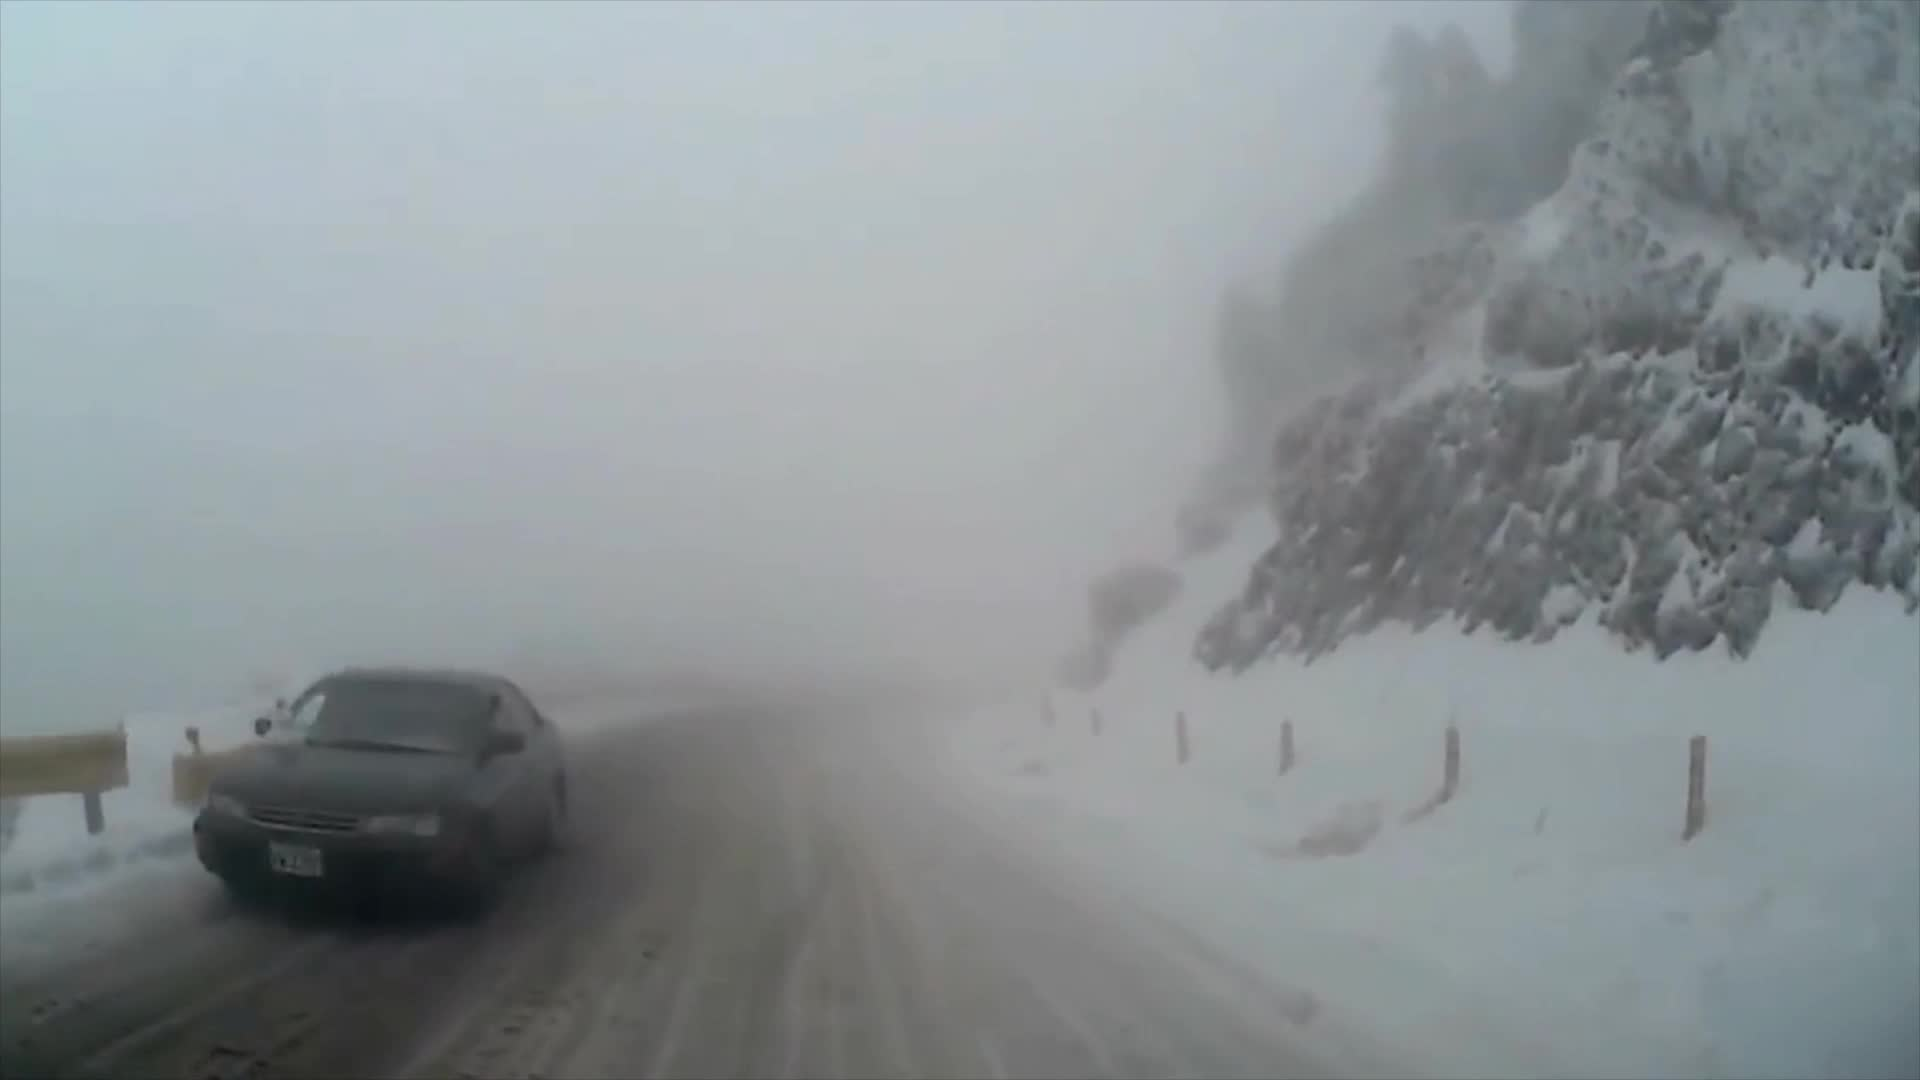vehicle: (193, 666, 574, 910)
